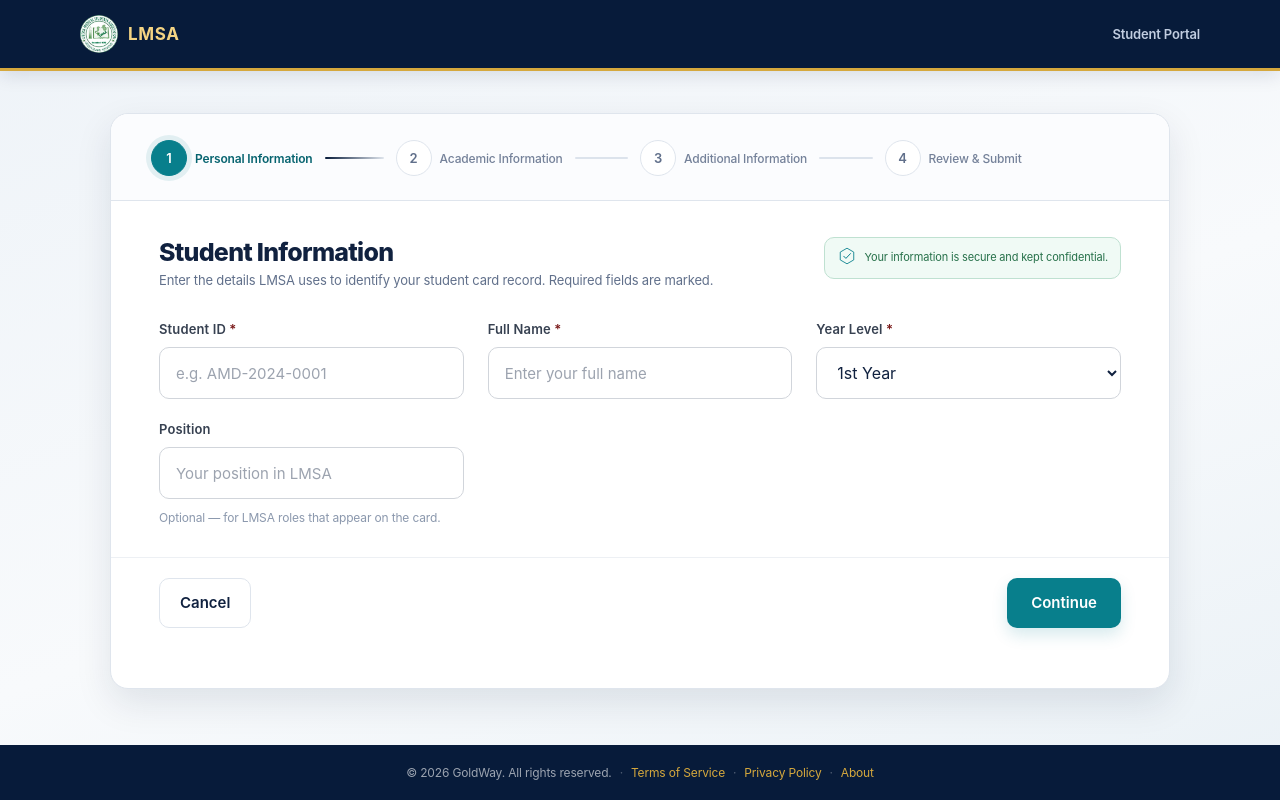
Scenario: StudentSubmissionForm › announces required core fields before advancing
expect the heading "Student Information" is shown: met, box [159, 237, 393, 267]
Click the button "Continue": x=1064, y=603 [1007, 578, 1121, 628]
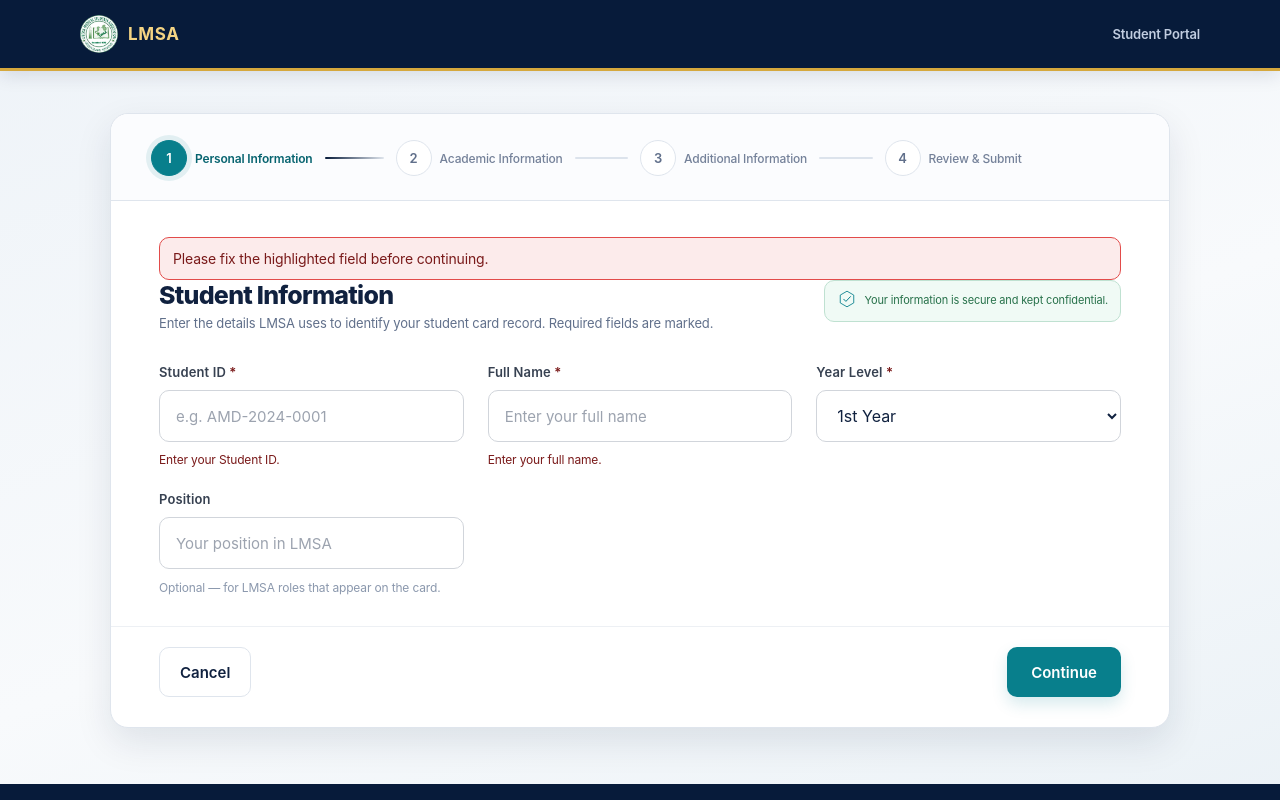
expect the message shows "Please fix the highlighted field": met, box [173, 250, 488, 267]
expect the text "Enter your Student ID." is shown: met, box [159, 452, 280, 467]
expect the text "Enter your full name." is shown: met, box [488, 452, 602, 467]
